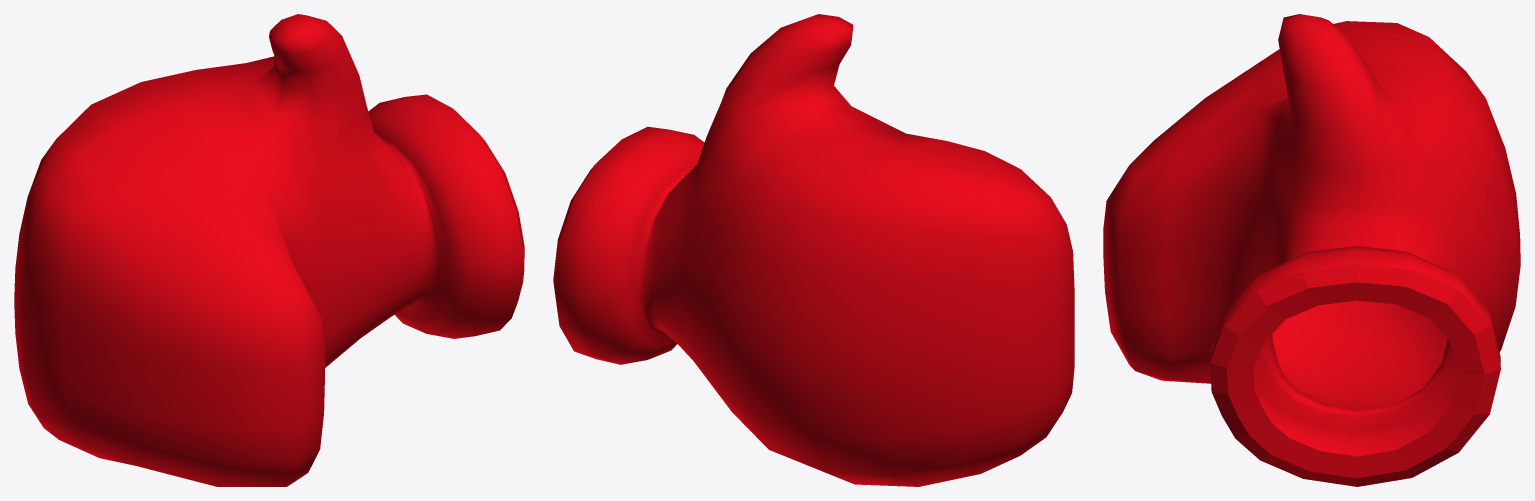
File: boxing-1.glb
3 views of the same model, side by side, from view 1: azimuth 30°, elevation 25°; view 2: azimuth 150°, elevation 25°; view 3: azimuth 270°, elevation 25° (orthographic). The views are drawn at different scales.
Parts seen in each view (by area): view 1: boxing; view 2: boxing; view 3: boxing.
Boxes of the visible parts, left/top/right/bottom form: boxing: left=14, top=14, right=524, bottom=486; boxing: left=553, top=14, right=1074, bottom=486; boxing: left=1103, top=14, right=1520, bottom=486.
Size of the model in its own units: 0.552 by 0.4845 by 0.429.
